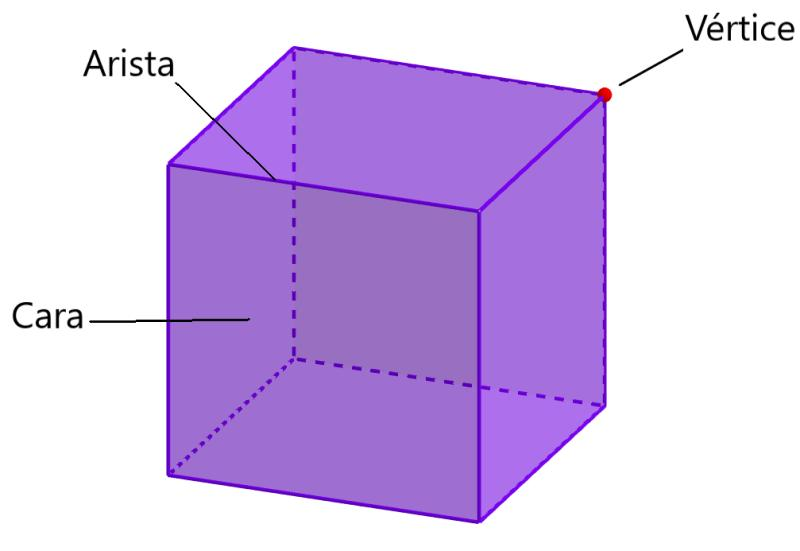cubos: (139, 40, 627, 530)
